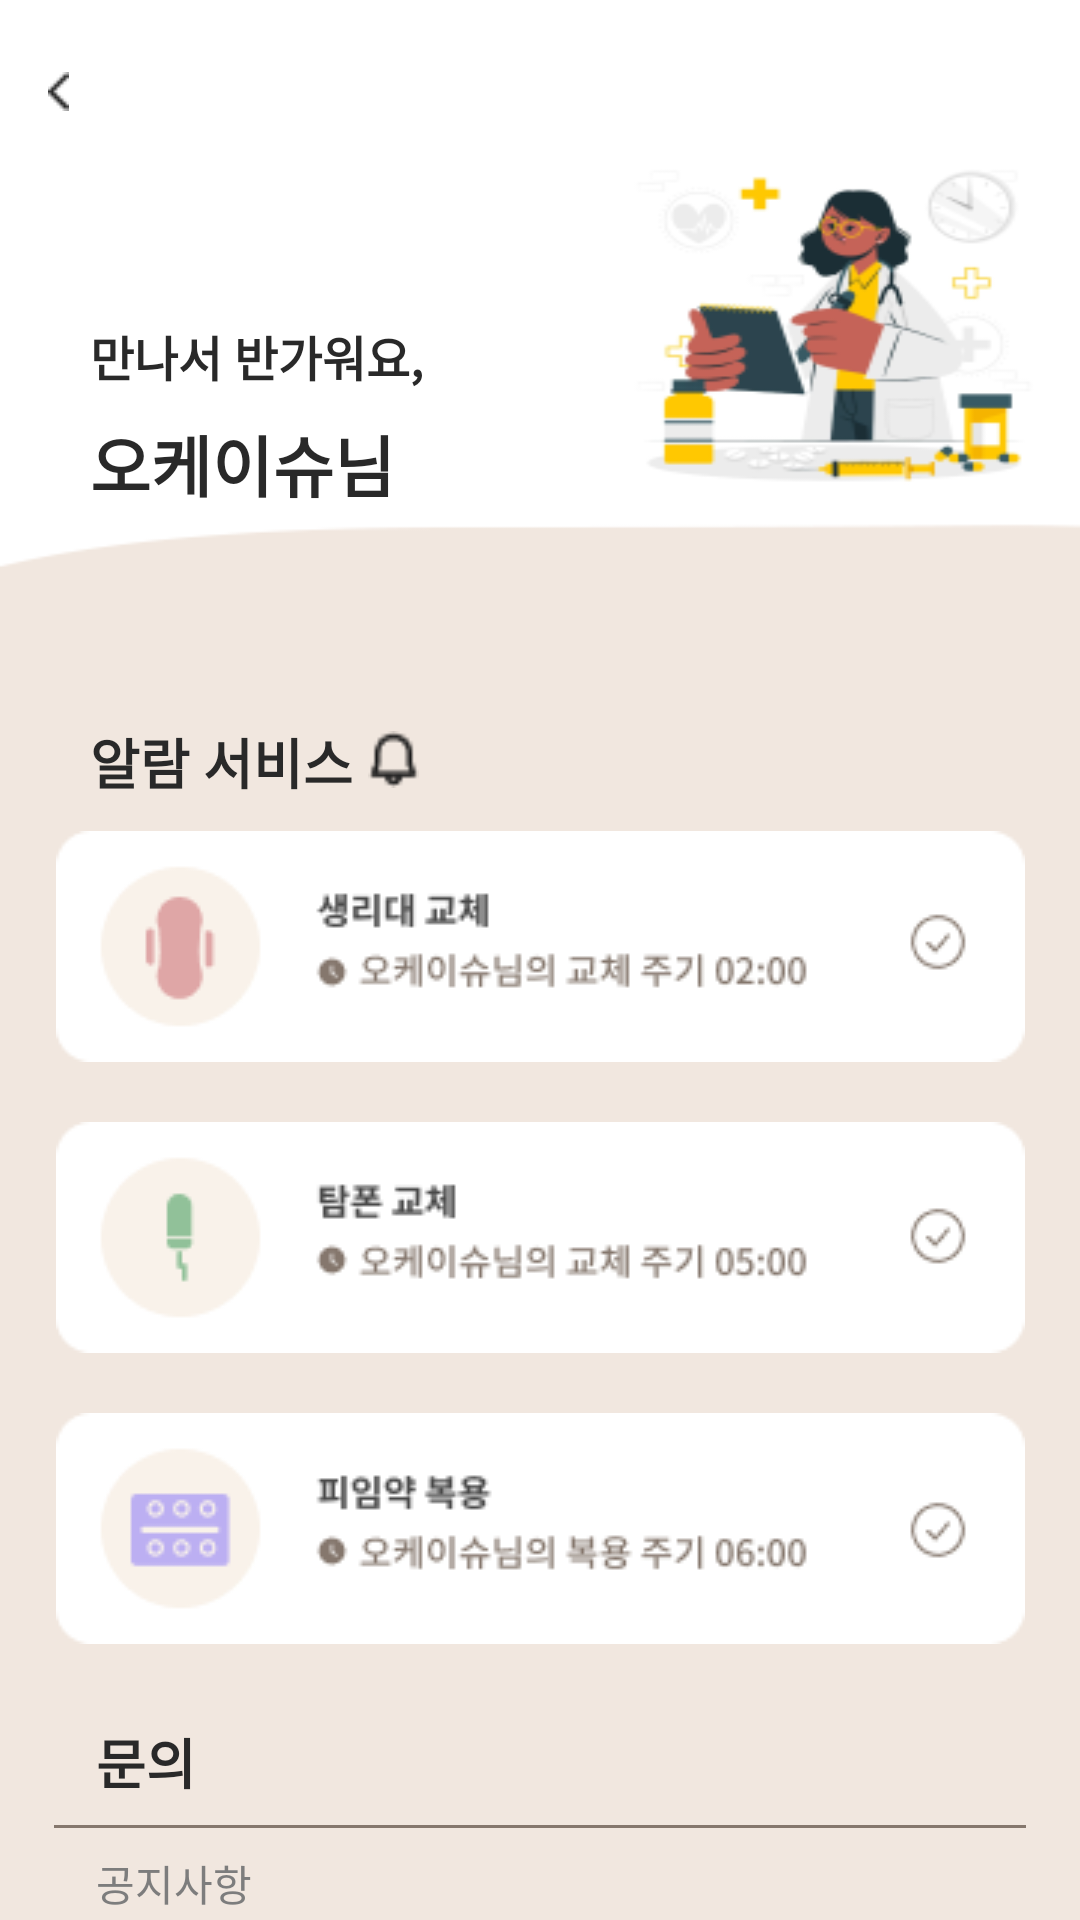

Where icons sit on this 1080x1920 app screen, as (x1, y1, x2, y2):
alarm: (370, 731, 417, 788)
